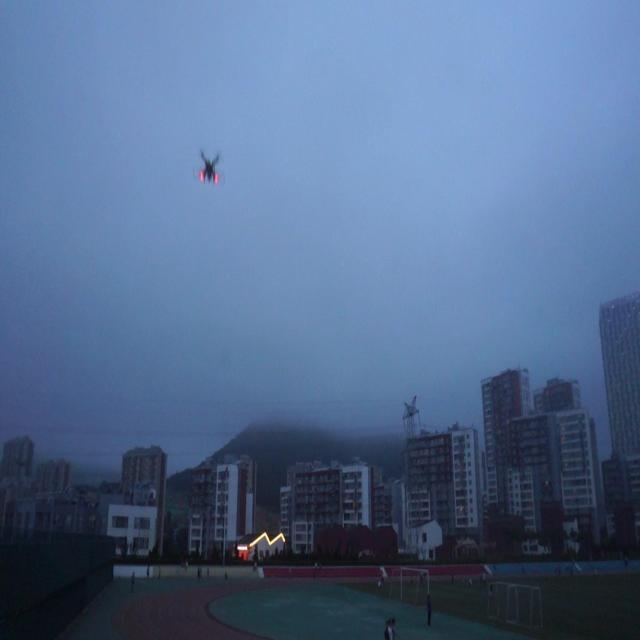drone: (193, 144, 225, 190)
